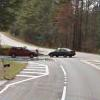Car: (45, 41, 80, 65)
